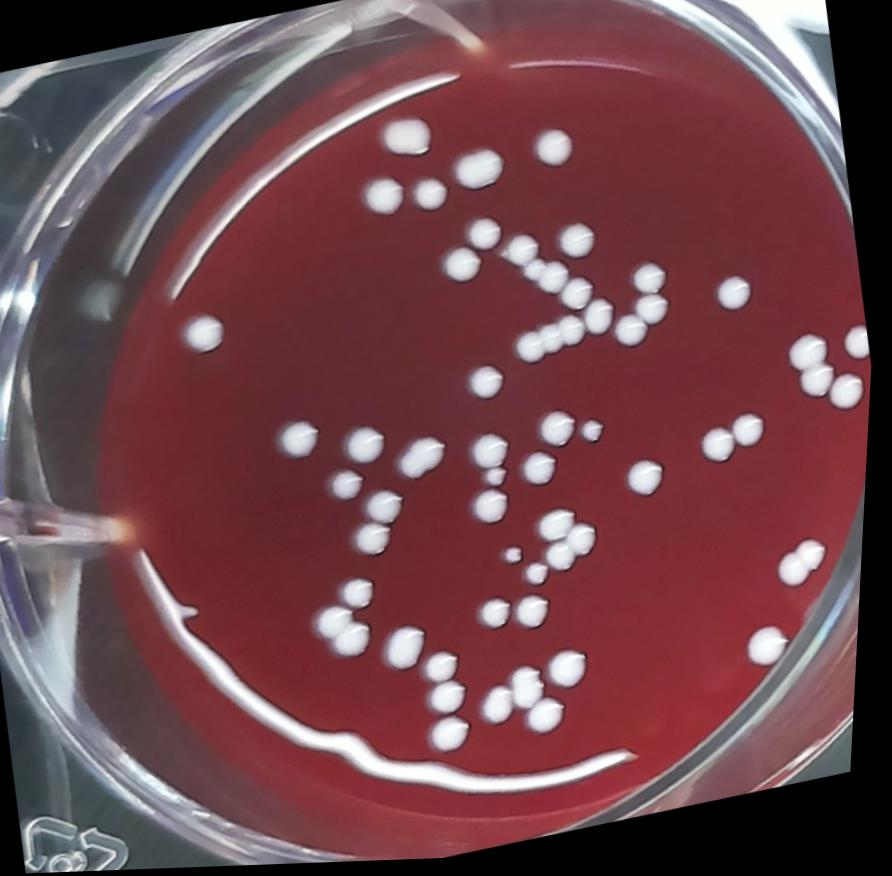staphylo-: (604, 259, 684, 359), (695, 407, 780, 477), (537, 502, 614, 579), (315, 597, 384, 670), (508, 313, 592, 372), (785, 329, 844, 410), (773, 537, 841, 601), (742, 617, 804, 682), (394, 428, 460, 489), (375, 107, 443, 166), (447, 142, 513, 200), (175, 304, 237, 364), (271, 409, 333, 469), (379, 618, 442, 676), (354, 170, 414, 229), (623, 452, 681, 508), (548, 642, 604, 699), (523, 693, 582, 745), (342, 420, 396, 473), (362, 479, 414, 534), (478, 678, 527, 735), (431, 711, 482, 765), (426, 676, 480, 727), (521, 255, 577, 304), (529, 125, 583, 175), (710, 272, 761, 324), (436, 240, 489, 290), (468, 428, 520, 478), (536, 406, 587, 456), (471, 484, 521, 534), (464, 360, 514, 409), (825, 372, 874, 422), (554, 219, 603, 268), (408, 172, 455, 221), (512, 663, 556, 715), (425, 642, 472, 690), (341, 570, 388, 617), (352, 521, 400, 567), (579, 294, 624, 343), (518, 447, 566, 492), (500, 231, 549, 275), (557, 274, 602, 320), (464, 213, 509, 259), (327, 464, 373, 508), (516, 593, 560, 638), (479, 593, 521, 638), (839, 321, 876, 371), (580, 418, 613, 450), (526, 560, 556, 590), (503, 545, 532, 572)
